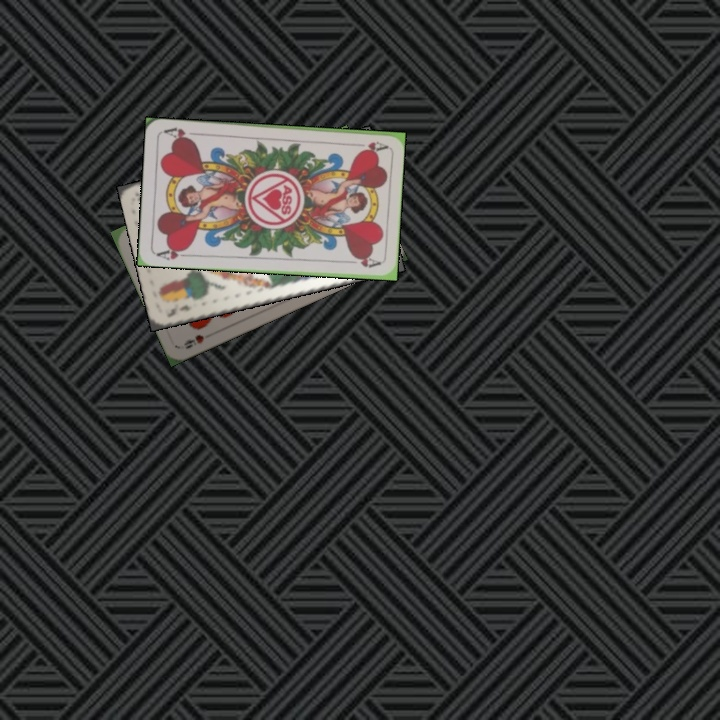EK: (163, 301, 194, 320)
H9: (179, 330, 207, 352)
HA: (153, 243, 193, 263), (348, 137, 388, 154)
